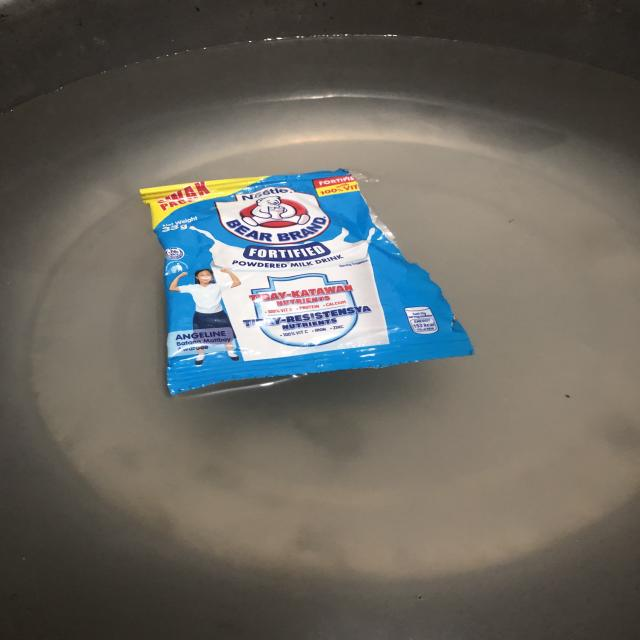Plastic Wrapper: (140, 169, 473, 395)
